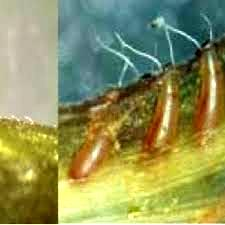Helopeltis-insect: (140, 62, 187, 159), (65, 106, 124, 183), (196, 39, 224, 148)
